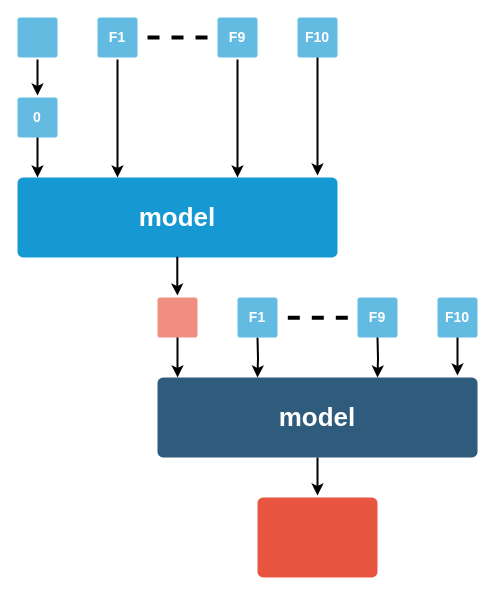
This 494x594 diagram has some shape labels left out. The box of each missing label's shape, as (x1, y1, x2, y2) in pixels:
Class: (257, 497, 377, 577)
F0: (17, 17, 57, 57)
P0: (157, 297, 197, 337)
